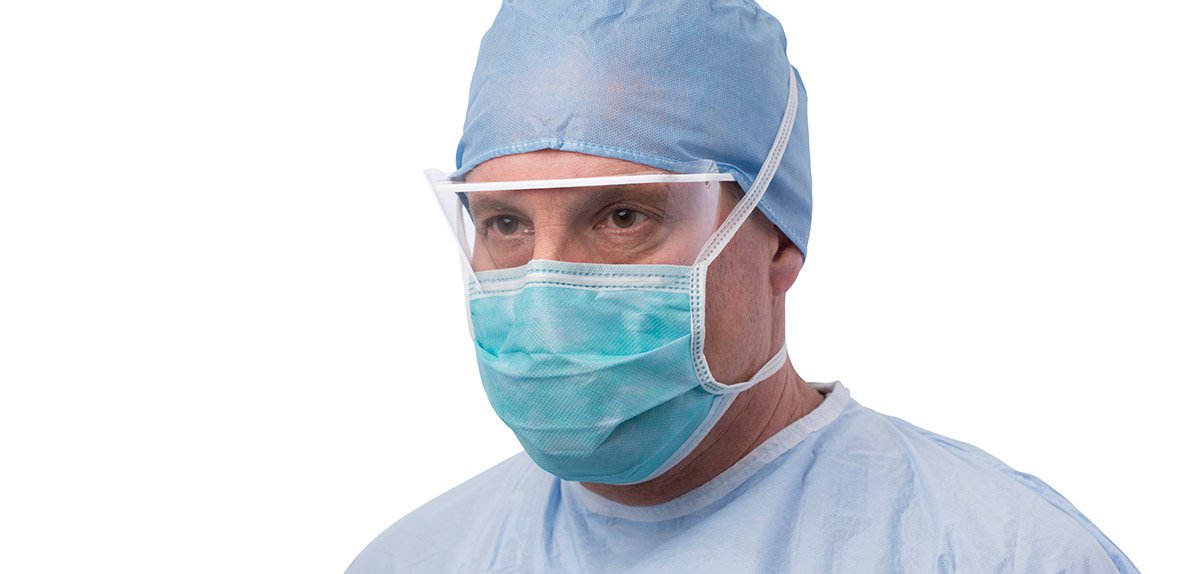mask: (412, 12, 889, 494)
